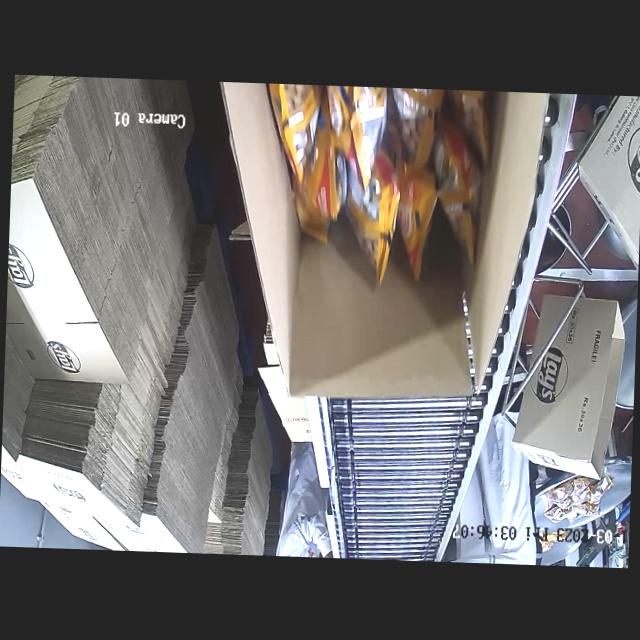cheese: (269, 82, 474, 290)
